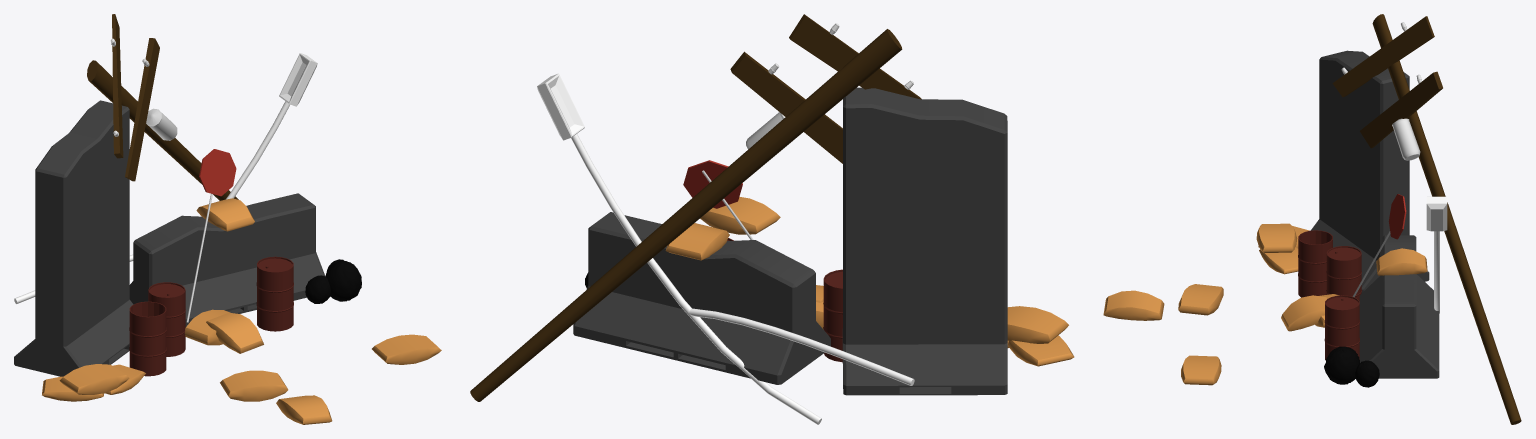
The model's file is SM_Junk.fbx.
3 renders of one model, left to right at view 1: azimuth 30°, elevation 25°; view 2: azimuth 150°, elevation 25°; view 3: azimuth 270°, elevation 25°, orthographic. The views are drawn at different scales.
Visible parts, largest first — view 1: Cylinder058; view 2: Cylinder058; view 3: Cylinder058.
Part boxes in pixels (<box>): Cylinder058: <box>14,14,441,424</box>; Cylinder058: <box>470,14,1074,424</box>; Cylinder058: <box>1103,14,1521,424</box>.
Bounding box in the file's own units: 350 × 301 × 367.
